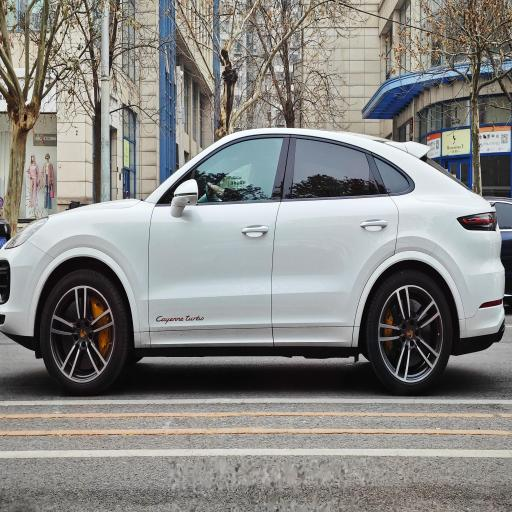Sedan-sDLz: (0, 127, 511, 400)
